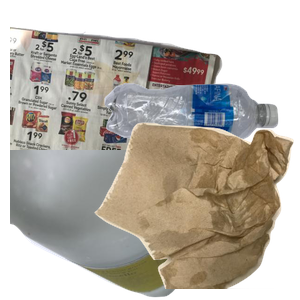glass: (10, 150, 190, 300)
paper: (10, 22, 225, 202)
plastic: (102, 81, 300, 216)
trash: (92, 120, 300, 300)
